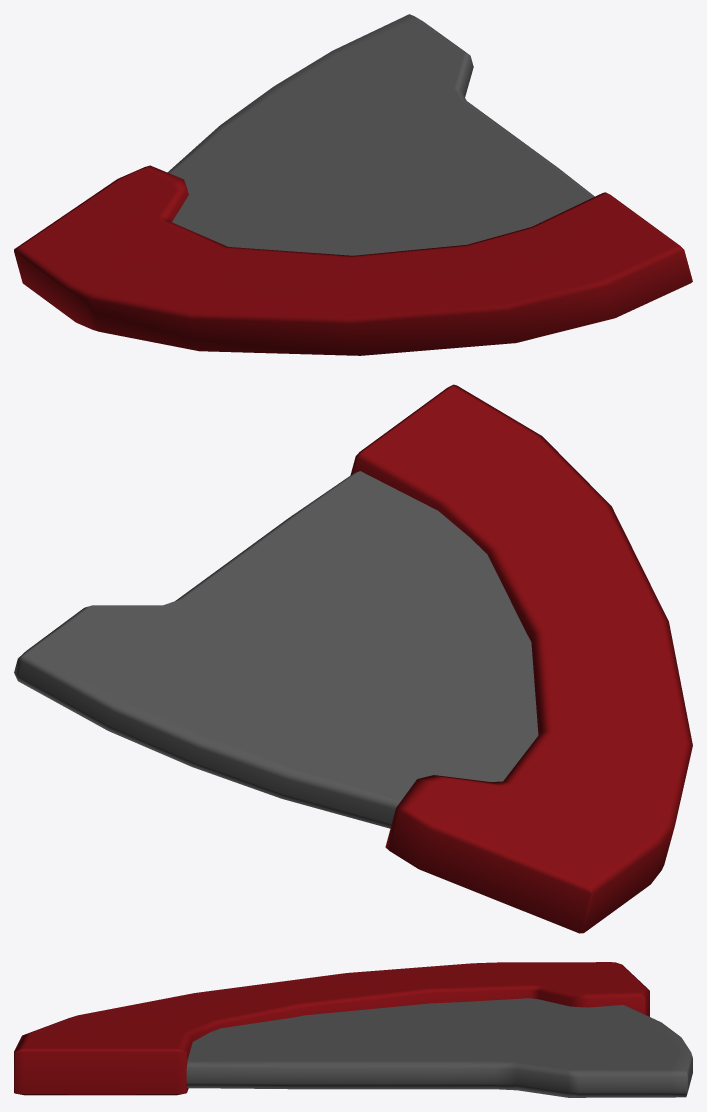
File: Ship_enemy_03_Wing_R.fbx
3 views of the same model, one above another, from view 1: azimuth 30°, elevation 25°; view 2: azimuth 150°, elevation 25°; view 3: azimuth 270°, elevation 25° (orthographic). The views are drawn at different scales.
Parts seen in each view (by area): view 1: Ship_enemy_03_Wing_R; view 2: Ship_enemy_03_Wing_R; view 3: Ship_enemy_03_Wing_R.
Part boxes in pixels (left/top/right/bottom): Ship_enemy_03_Wing_R: left=14, top=14, right=692, bottom=355; Ship_enemy_03_Wing_R: left=14, top=384, right=692, bottom=933; Ship_enemy_03_Wing_R: left=14, top=962, right=692, bottom=1097.
Bounding box in the file's own units: 210 × 66.99 × 261.
